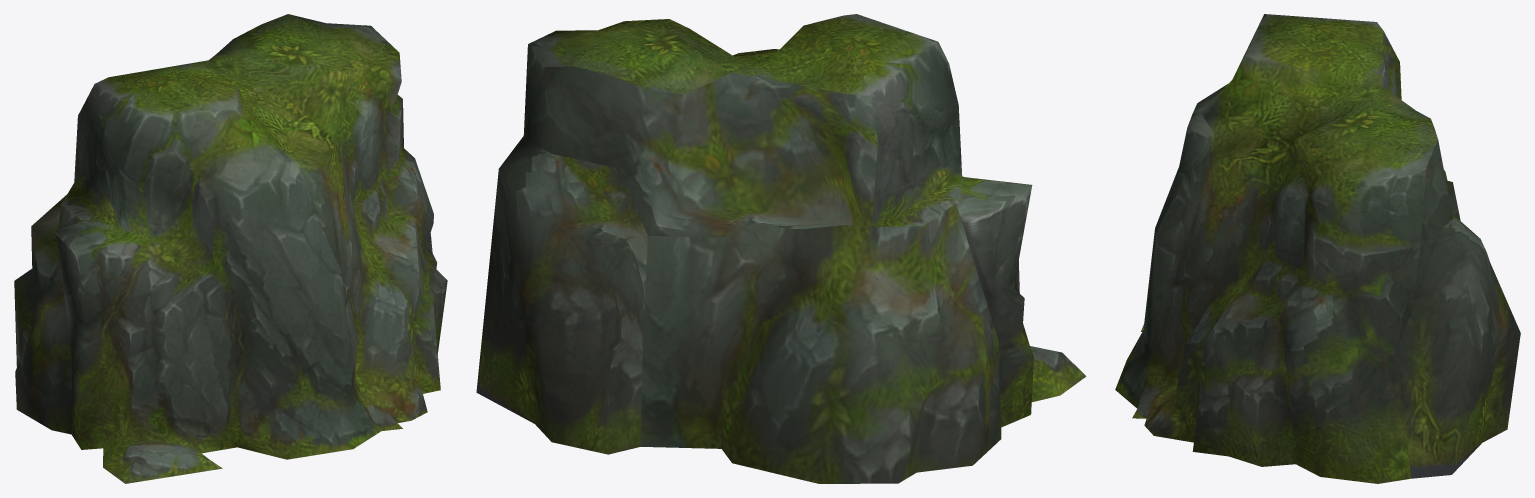
The model's file is shitou02_01.FBX.
3 renders of one model, left to right at view 1: azimuth 30°, elevation 25°; view 2: azimuth 150°, elevation 25°; view 3: azimuth 270°, elevation 25°, orthographic. The views are drawn at different scales.
Visible parts, largest first — view 1: shitou02_01; view 2: shitou02_01; view 3: shitou02_01.
Part boxes in pixels (bbox=[...]): shitou02_01: bbox=[14, 14, 447, 483]; shitou02_01: bbox=[476, 14, 1086, 483]; shitou02_01: bbox=[1115, 14, 1520, 483].
Bounding box in the file's own units: 2061 × 1545 × 1774.
